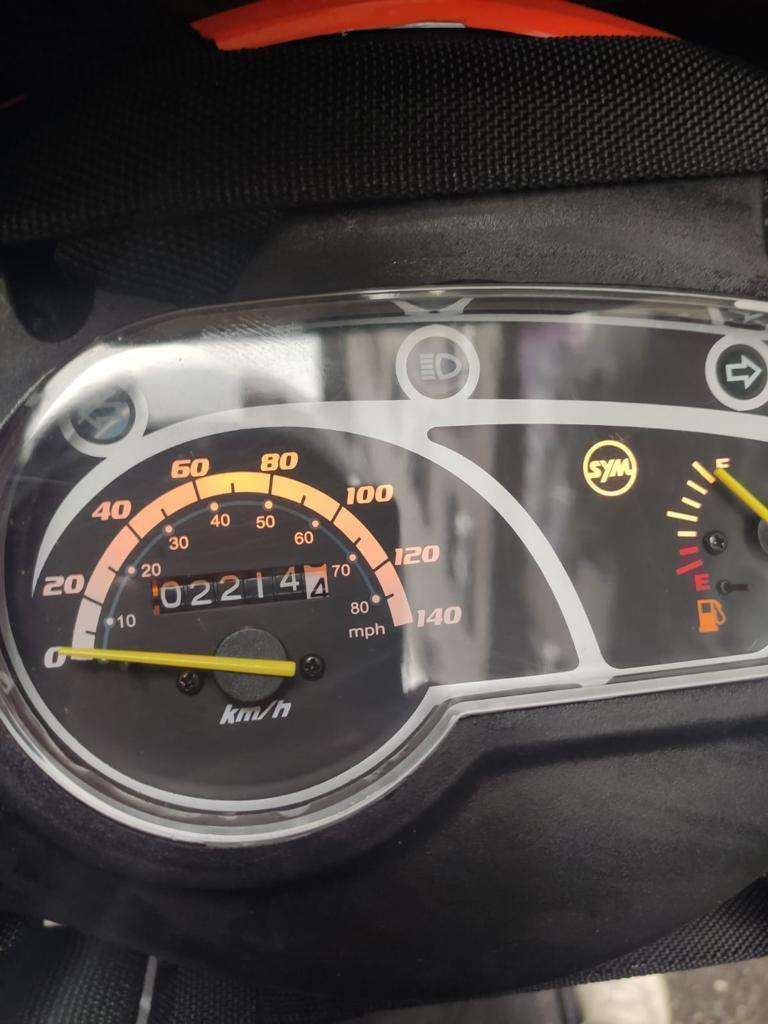0: (157, 581, 183, 611), (151, 561, 162, 576)
1: (250, 567, 266, 605)
2: (216, 571, 243, 607), (187, 575, 213, 610)
4: (277, 564, 299, 595), (307, 575, 329, 603)
odometer: (148, 562, 332, 616)
